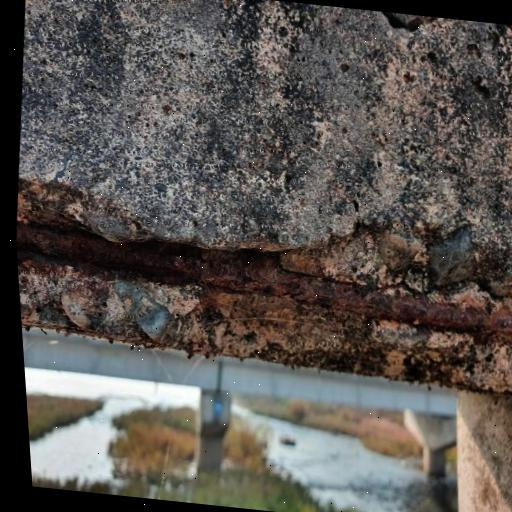exposed_rebar: (16, 227, 512, 340)
spalling: (16, 180, 512, 394)
